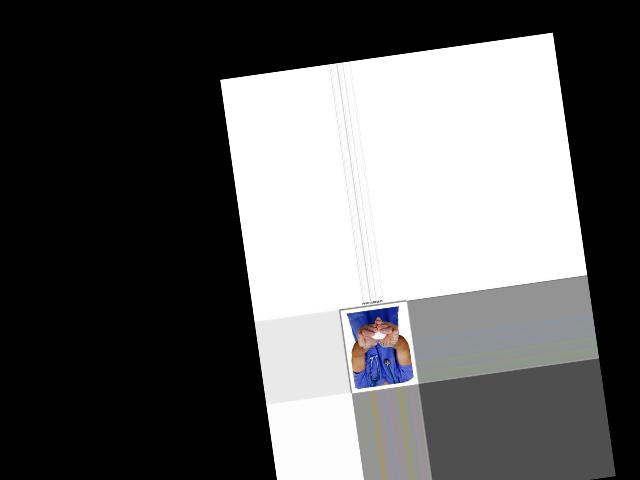egg: (369, 328, 386, 340)
